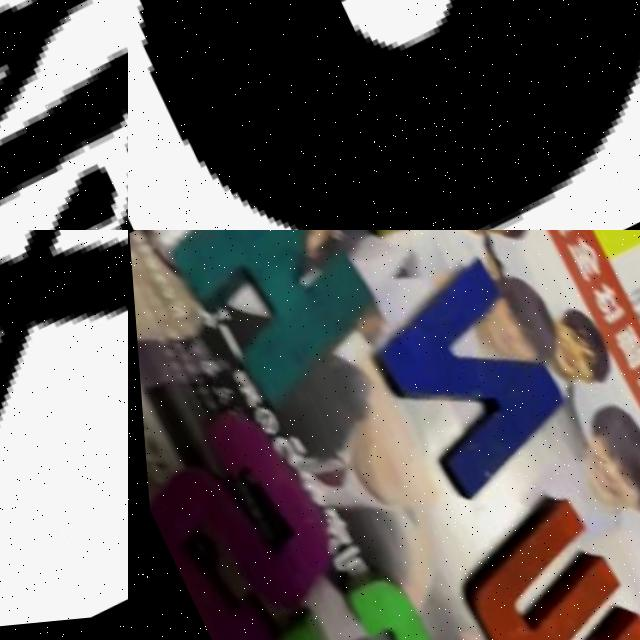C: (251, 562, 466, 640)
K: (150, 230, 382, 412)
L: (313, 230, 510, 263)
N: (355, 257, 576, 500)
S: (138, 396, 354, 640)
W: (439, 489, 640, 640), (0, 0, 128, 230)
X: (0, 230, 128, 640)
